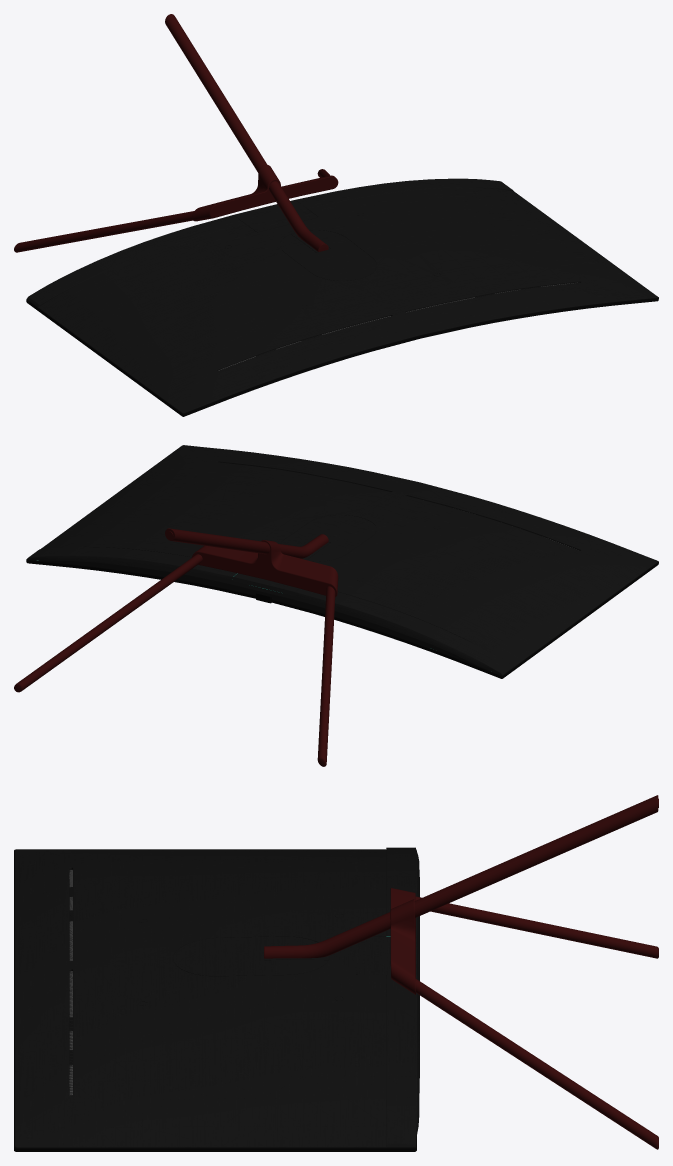
The model's file is Samsung_QLED_55__Studio_Stand_mat(2).obj.
The picture shows the model from 3 angles, top to bottom: view 1: azimuth 30°, elevation 25°; view 2: azimuth 150°, elevation 25°; view 3: azimuth 270°, elevation 25°; orthographic projection. The views are drawn at different scales.
Parts seen in each view (by area): view 1: Samsung_QLED_55__Studio_Stand_mat2; view 2: Samsung_QLED_55__Studio_Stand_mat2; view 3: Samsung_QLED_55__Studio_Stand_mat2.
Boxes of the visible parts, left/top/right/bottom form: Samsung_QLED_55__Studio_Stand_mat2: left=14, top=14, right=658, bottom=416; Samsung_QLED_55__Studio_Stand_mat2: left=14, top=445, right=658, bottom=766; Samsung_QLED_55__Studio_Stand_mat2: left=14, top=795, right=658, bottom=1151.
Size of the model in its own units: 144 by 57.98 by 131.
